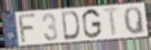3: (42, 12, 59, 41)
D: (61, 11, 81, 41)
F: (18, 13, 38, 45)
G: (81, 8, 103, 40)
Q: (123, 6, 147, 36)
T: (102, 6, 121, 38)
